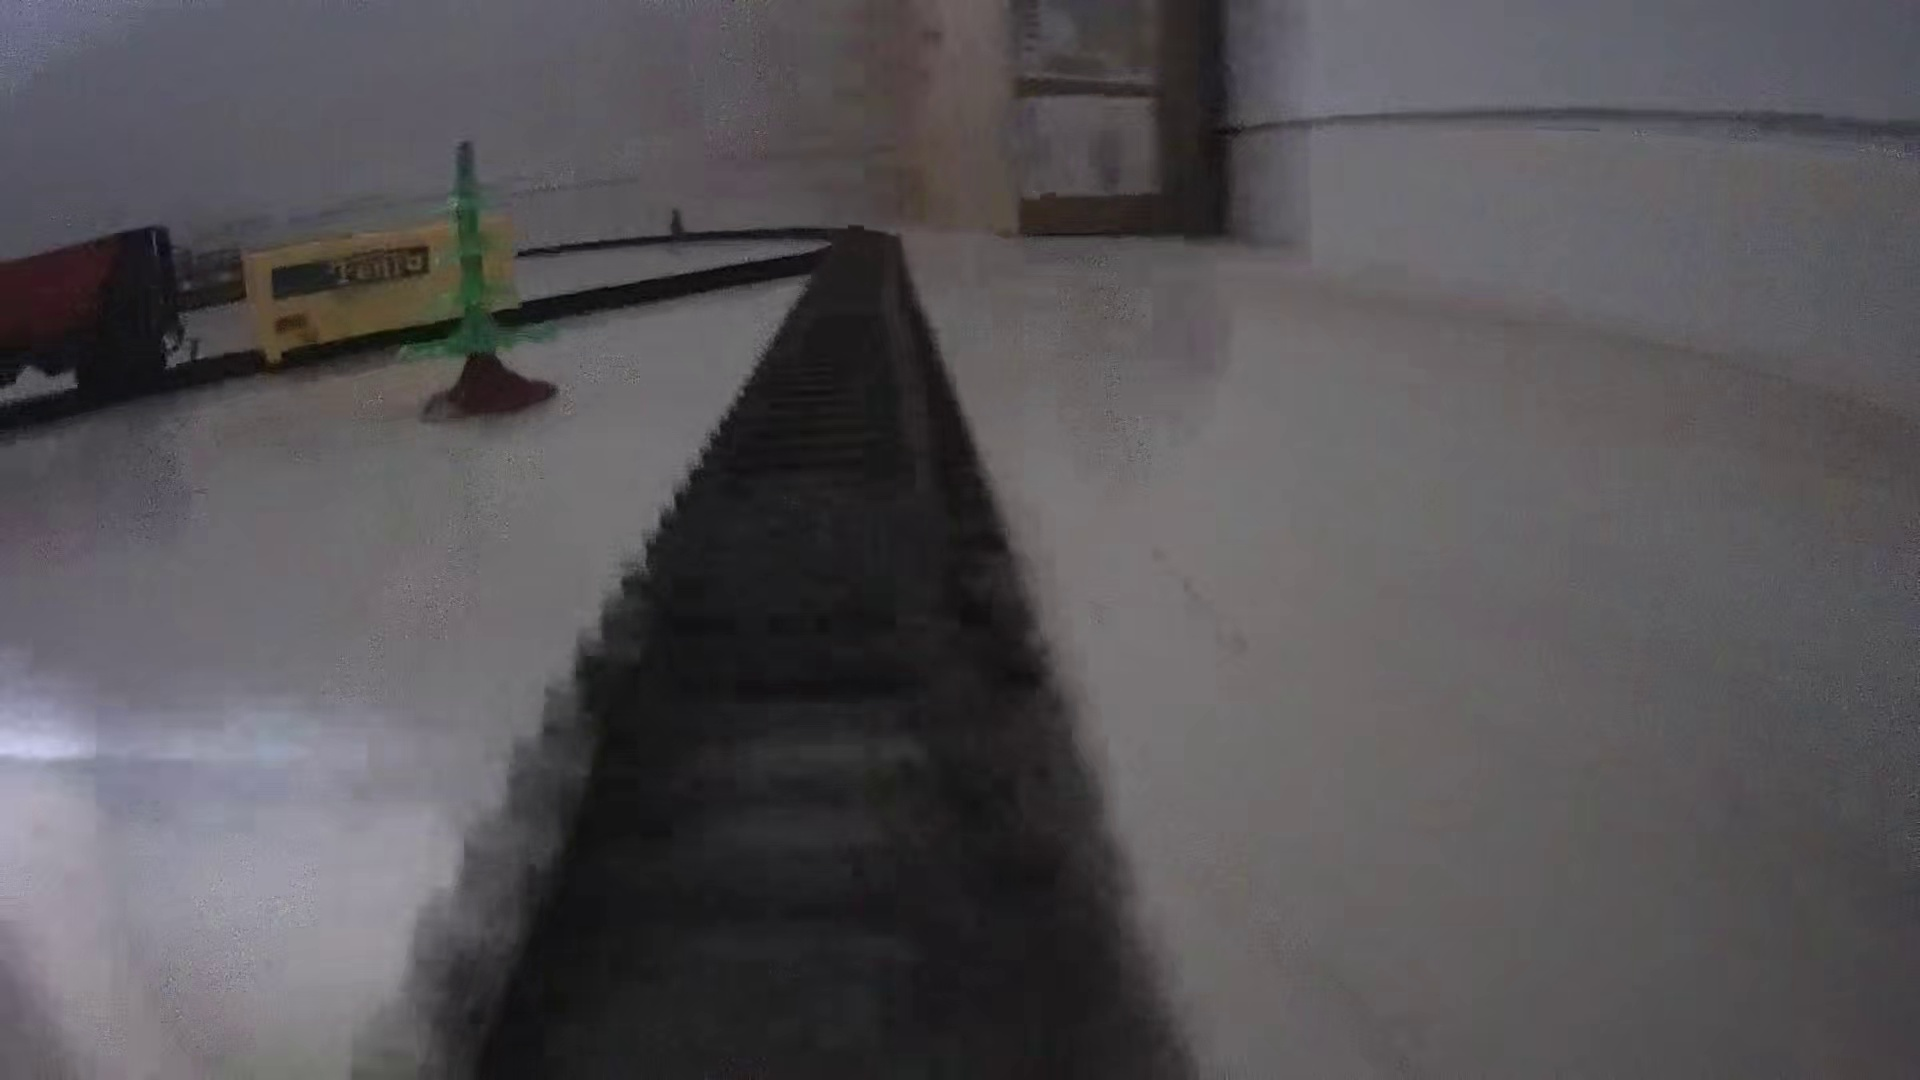tree: (418, 137, 569, 424)
